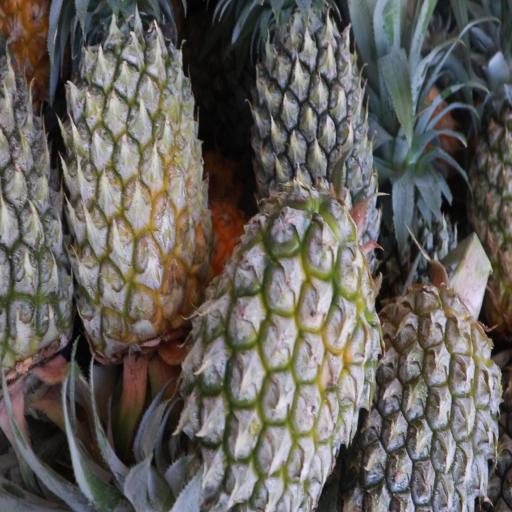------------------------------: (187, 205, 366, 504), (64, 0, 206, 355)
